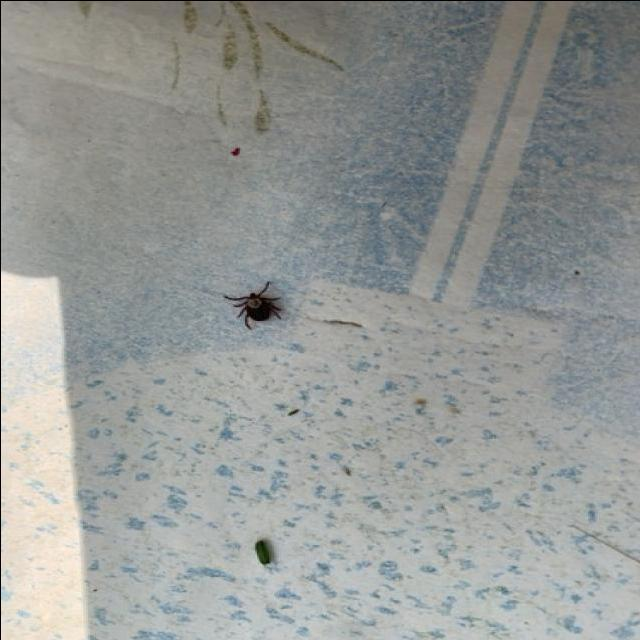Dermacentor Reticulatus-F: (224, 282, 280, 328)
